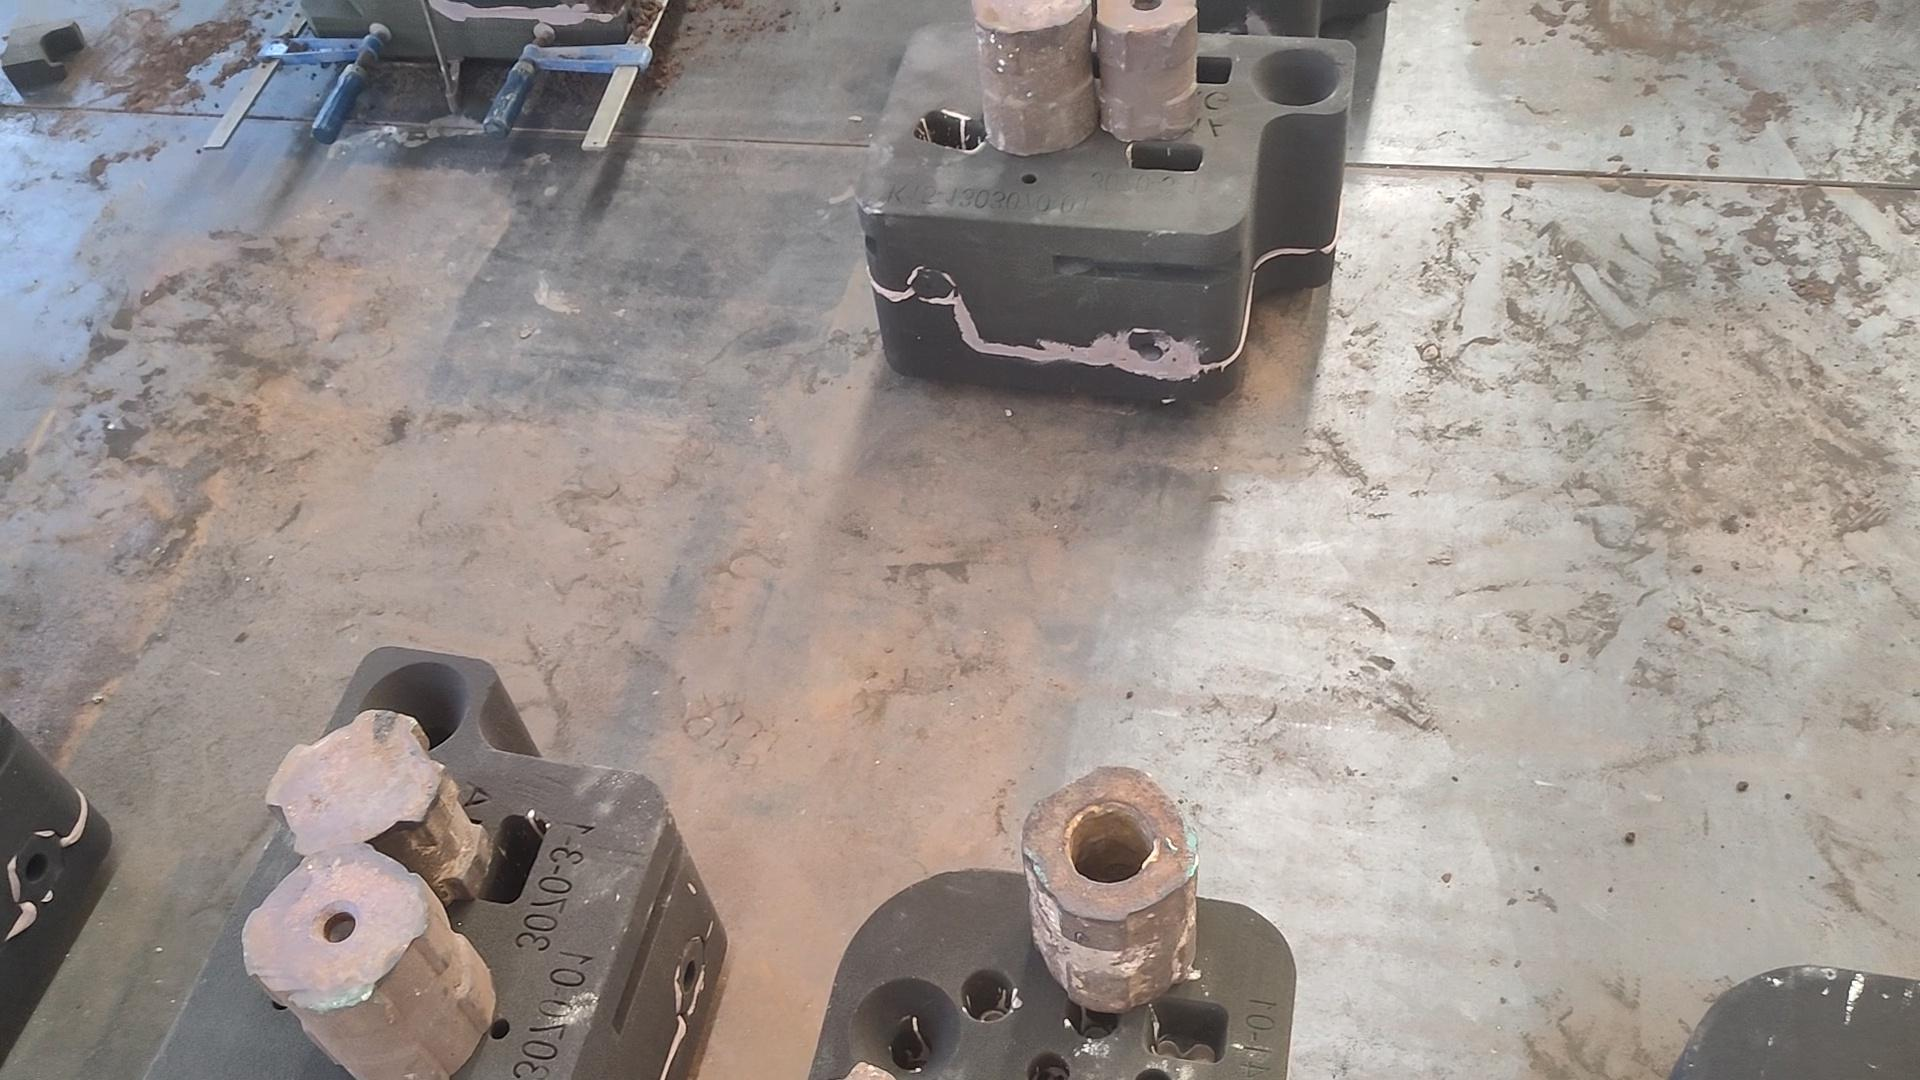pouring hole: (848, 976, 961, 1080), (355, 661, 469, 753), (1247, 47, 1340, 105)
